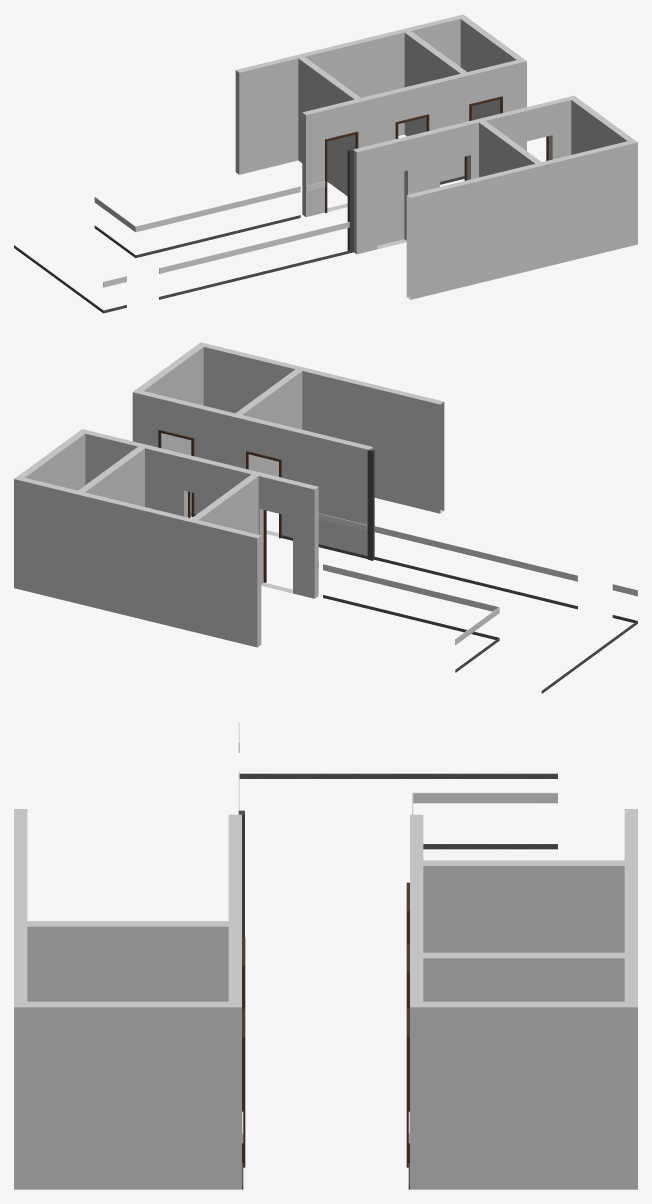
Rendered from migrant 4.fbx.
The picture shows the model from 3 angles, top to bottom: view 1: azimuth 30°, elevation 25°; view 2: azimuth 150°, elevation 25°; view 3: azimuth 270°, elevation 25°; orthographic projection. The views are drawn at different scales.
Parts seen in each view (by area): view 1: Cube.009, Plinthe.009, Plinthe.003, Plinthe au sol.009, Cube, Plinthe au sol.003; view 2: Cube.009, Plinthe.009, Plinthe.003, Cube, Plinthe au sol.009, Plinthe au sol.003; view 3: Cube.009, Plinthe au sol.011, Plinthe.009, Plinthe au sol.009.
Boxes of the visible parts, x1,y1,x2,y2 form: Cube.009: (235, 14, 637, 299); Plinthe.009: (94, 186, 300, 232); Plinthe.003: (159, 222, 349, 273); Plinthe au sol.009: (94, 215, 300, 257); Cube: (347, 149, 353, 253); Plinthe au sol.003: (159, 250, 349, 299); Cube.009: (14, 342, 444, 647); Plinthe.009: (323, 564, 499, 644); Plinthe.003: (374, 526, 577, 581); Cube: (367, 449, 374, 560); Plinthe au sol.009: (323, 595, 499, 672); Plinthe au sol.003: (374, 557, 577, 609); Cube.009: (14, 809, 637, 1189); Plinthe au sol.011: (239, 773, 557, 778); Plinthe.009: (412, 792, 557, 814); Plinthe au sol.009: (423, 844, 557, 849).
Bounding box in the file's own units: 1450 × 300 × 930.
5 materials, 1 textured.
